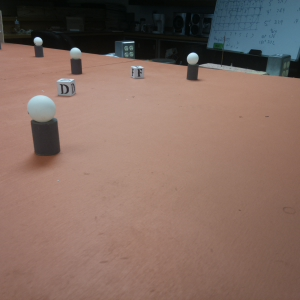blockD: (57, 78, 75, 97)
blockF: (130, 66, 143, 79)
obstacle: (27, 93, 62, 158), (184, 51, 201, 83), (69, 46, 82, 74), (33, 36, 45, 57)
